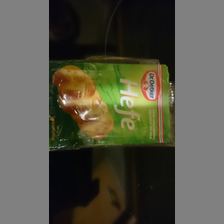cake: (48, 60, 173, 150)
